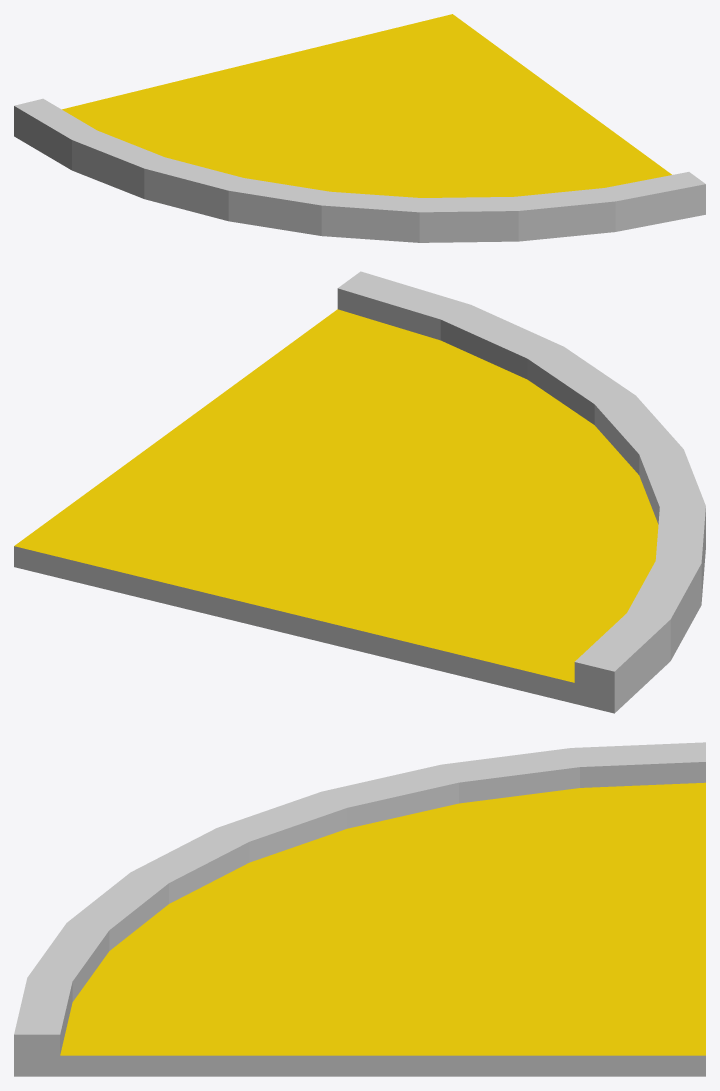
File: Corner.fbx
3 renders of one model, top to bottom at view 1: azimuth 30°, elevation 25°; view 2: azimuth 150°, elevation 25°; view 3: azimuth 270°, elevation 25°, orthographic. The views are drawn at different scales.
Visible parts, largest first — view 1: 円柱; view 2: 円柱; view 3: 円柱.
Boxes of the visible parts, <box> form: 円柱: <box>14,14,705,242</box>; 円柱: <box>14,271,705,713</box>; 円柱: <box>14,742,705,1076</box>.
Bounding box in the file's own units: 7500 × 500 × 7500.
